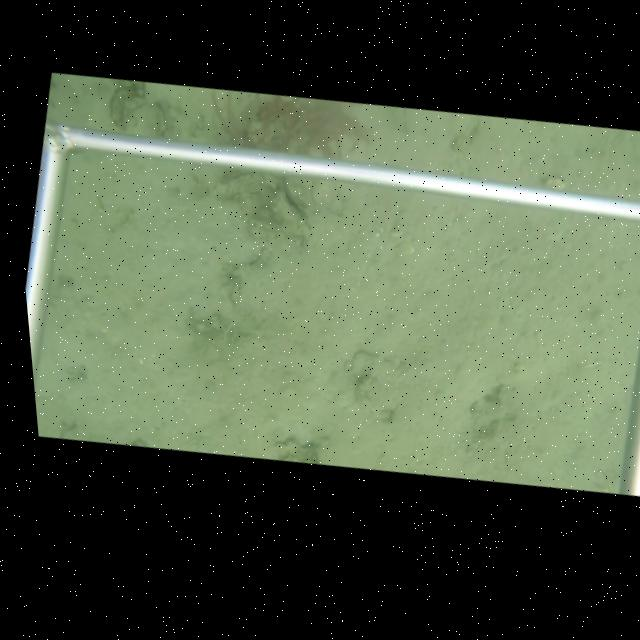Oyster-Closed: (106, 85, 133, 129), (273, 189, 299, 220)
